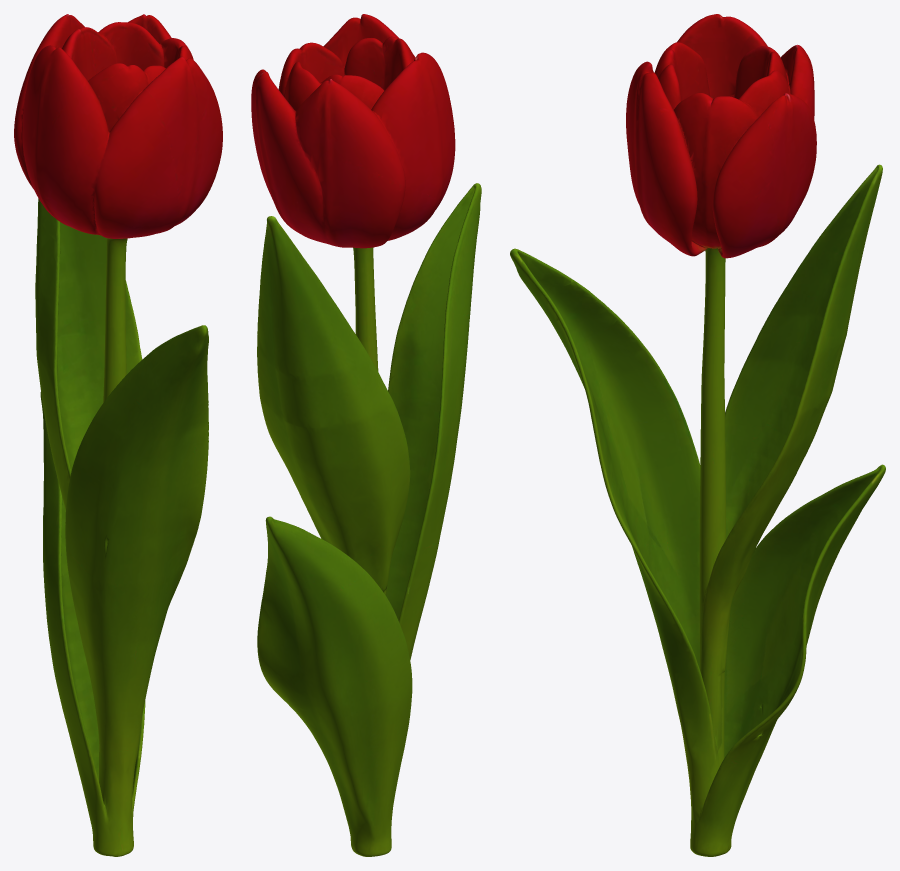
Rendered from Tulip Red.glb.
The picture shows the model from 3 angles, left to right: view 1: azimuth 30°, elevation 25°; view 2: azimuth 150°, elevation 25°; view 3: azimuth 270°, elevation 25°; orthographic projection.
Parts seen in each view (by area): view 1: tripo_node_4209fd77-076c-4a04-be6d-6df139e9205c; view 2: tripo_node_4209fd77-076c-4a04-be6d-6df139e9205c; view 3: tripo_node_4209fd77-076c-4a04-be6d-6df139e9205c.
Boxes of the visible parts, x1=… form: tripo_node_4209fd77-076c-4a04-be6d-6df139e9205c: x1=14, y1=14, x2=222, y2=856; tripo_node_4209fd77-076c-4a04-be6d-6df139e9205c: x1=251, y1=14, x2=481, y2=856; tripo_node_4209fd77-076c-4a04-be6d-6df139e9205c: x1=510, y1=14, x2=885, y2=856.
Bounding box in the file's own units: 0.2225 × 1 × 0.4198.
Materials: 1 (1 with a texture image).
